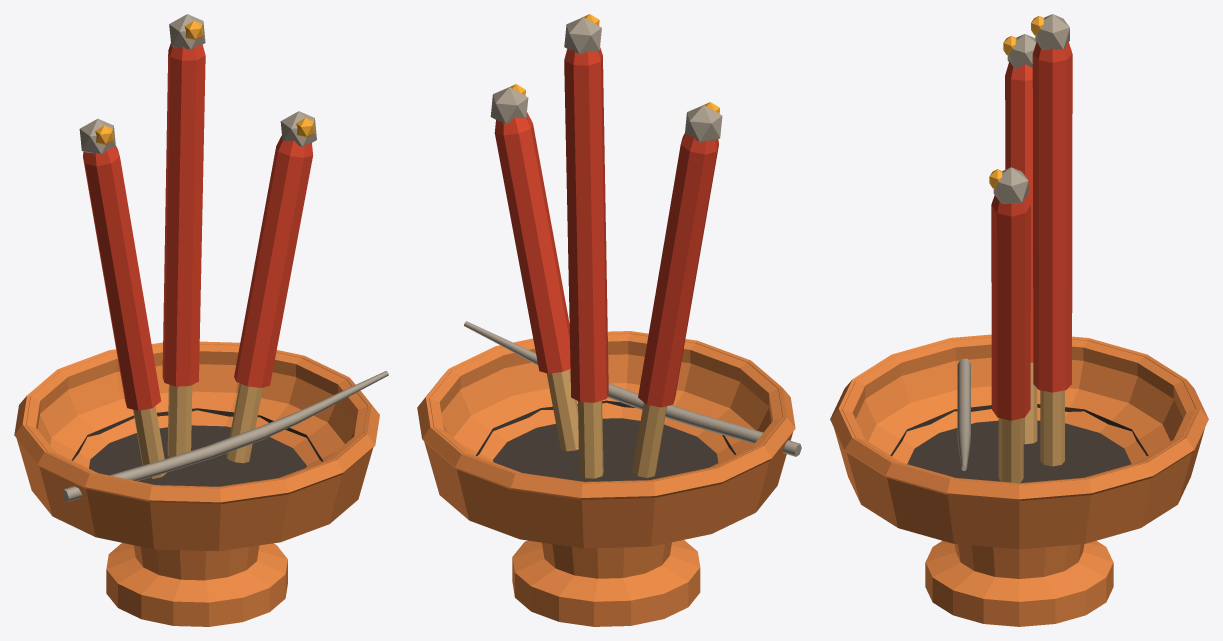
File: power_incense.obj
3 views of the same model, side by side, from view 1: azimuth 30°, elevation 25°; view 2: azimuth 150°, elevation 25°; view 3: azimuth 270°, elevation 25° (orthographic). The views are drawn at different scales.
Visible parts, largest first — view 1: A_CopperEmberBowl.001_power_incense_copper, B_BowlRim.001_power_incense_copper, D_IncensePaste1.001_power_incense_vermilion_paste, D_IncensePaste0.001_power_incense_vermilion_paste, D_IncensePaste2.001_power_incense_vermilion_paste, B_SootBed.001_power_incense_sooted_interior, F_AshPoker.001_power_incense_ash, C_BambooStick1.001_power_incense_bamboo, C_BambooStick2.001_power_incense_bamboo, C_BambooStick0.001_power_incense_bamboo, E_AshTip0.001_power_incense_ash, E_AshTip1.001_power_incense_ash (+1 smaller); view 2: A_CopperEmberBowl.001_power_incense_copper, B_BowlRim.001_power_incense_copper, D_IncensePaste1.001_power_incense_vermilion_paste, D_IncensePaste0.001_power_incense_vermilion_paste, D_IncensePaste2.001_power_incense_vermilion_paste, B_SootBed.001_power_incense_sooted_interior, F_AshPoker.001_power_incense_ash, C_BambooStick1.001_power_incense_bamboo, C_BambooStick2.001_power_incense_bamboo, C_BambooStick0.001_power_incense_bamboo, E_AshTip0.001_power_incense_ash, E_AshTip1.001_power_incense_ash (+1 smaller); view 3: A_CopperEmberBowl.001_power_incense_copper, B_BowlRim.001_power_incense_copper, D_IncensePaste1.001_power_incense_vermilion_paste, D_IncensePaste2.001_power_incense_vermilion_paste, B_SootBed.001_power_incense_sooted_interior, D_IncensePaste0.001_power_incense_vermilion_paste, C_BambooStick1.001_power_incense_bamboo, C_BambooStick2.001_power_incense_bamboo, F_AshPoker.001_power_incense_ash, E_AshTip2.001_power_incense_ash, E_AshTip1.001_power_incense_ash, C_BambooStick0.001_power_incense_bamboo (+1 smaller).
Part boxes in pixels (left/top/right/bottom): A_CopperEmberBowl.001_power_incense_copper: left=16, top=344, right=372, bottom=626; B_BowlRim.001_power_incense_copper: left=14, top=341, right=379, bottom=503; D_IncensePaste1.001_power_incense_vermilion_paste: left=162, top=43, right=205, bottom=386; D_IncensePaste0.001_power_incense_vermilion_paste: left=83, top=146, right=160, bottom=410; D_IncensePaste2.001_power_incense_vermilion_paste: left=234, top=135, right=313, bottom=387; B_SootBed.001_power_incense_sooted_interior: left=72, top=408, right=323, bottom=486; F_AshPoker.001_power_incense_ash: left=62, top=371, right=388, bottom=501; C_BambooStick1.001_power_incense_bamboo: left=167, top=384, right=192, bottom=457; C_BambooStick2.001_power_incense_bamboo: left=226, top=383, right=262, bottom=463; C_BambooStick0.001_power_incense_bamboo: left=133, top=406, right=166, bottom=478; E_AshTip0.001_power_incense_ash: left=79, top=118, right=115, bottom=154; E_AshTip1.001_power_incense_ash: left=169, top=14, right=205, bottom=49; A_CopperEmberBowl.001_power_incense_copper: left=424, top=333, right=792, bottom=626; B_BowlRim.001_power_incense_copper: left=417, top=331, right=795, bottom=499; D_IncensePaste1.001_power_incense_vermilion_paste: left=564, top=47, right=608, bottom=402; D_IncensePaste0.001_power_incense_vermilion_paste: left=638, top=133, right=718, bottom=407; D_IncensePaste2.001_power_incense_vermilion_paste: left=494, top=112, right=570, bottom=373; B_SootBed.001_power_incense_sooted_interior: left=476, top=400, right=736, bottom=481; F_AshPoker.001_power_incense_ash: left=464, top=321, right=801, bottom=456; C_BambooStick1.001_power_incense_bamboo: left=578, top=400, right=603, bottom=478; C_BambooStick2.001_power_incense_bamboo: left=546, top=369, right=578, bottom=451; C_BambooStick0.001_power_incense_bamboo: left=632, top=402, right=666, bottom=477; E_AshTip0.001_power_incense_ash: left=684, top=105, right=722, bottom=142; E_AshTip1.001_power_incense_ash: left=564, top=17, right=601, bottom=54; A_CopperEmberBowl.001_power_incense_copper: left=834, top=337, right=1204, bottom=626; B_BowlRim.001_power_incense_copper: left=830, top=334, right=1208, bottom=500; D_IncensePaste1.001_power_incense_vermilion_paste: left=1032, top=42, right=1072, bottom=392; D_IncensePaste2.001_power_incense_vermilion_paste: left=991, top=195, right=1030, bottom=420; B_SootBed.001_power_incense_sooted_interior: left=890, top=404, right=1148, bottom=482; D_IncensePaste0.001_power_incense_vermilion_paste: left=1005, top=61, right=1033, bottom=362; C_BambooStick1.001_power_incense_bamboo: left=1040, top=390, right=1064, bottom=466; C_BambooStick2.001_power_incense_bamboo: left=998, top=418, right=1023, bottom=483; F_AshPoker.001_power_incense_ash: left=957, top=358, right=970, bottom=470; E_AshTip2.001_power_incense_ash: left=993, top=167, right=1028, bottom=203; E_AshTip1.001_power_incense_ash: left=1035, top=14, right=1069, bottom=50; C_BambooStick0.001_power_incense_bamboo: left=1023, top=362, right=1037, bottom=444.
Size of the model in its own units: 1.39 by 2.3 by 1.37.
